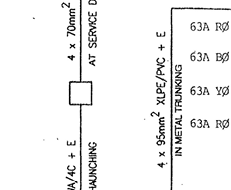Cable Termination Box: (64, 76, 104, 114)
